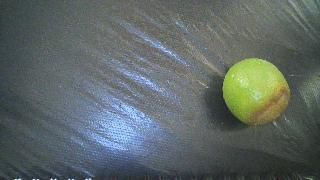DESECHO: (222, 58, 290, 125)
